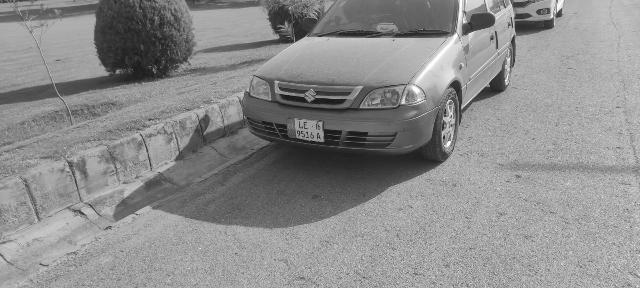Number: (295, 120, 314, 139)
